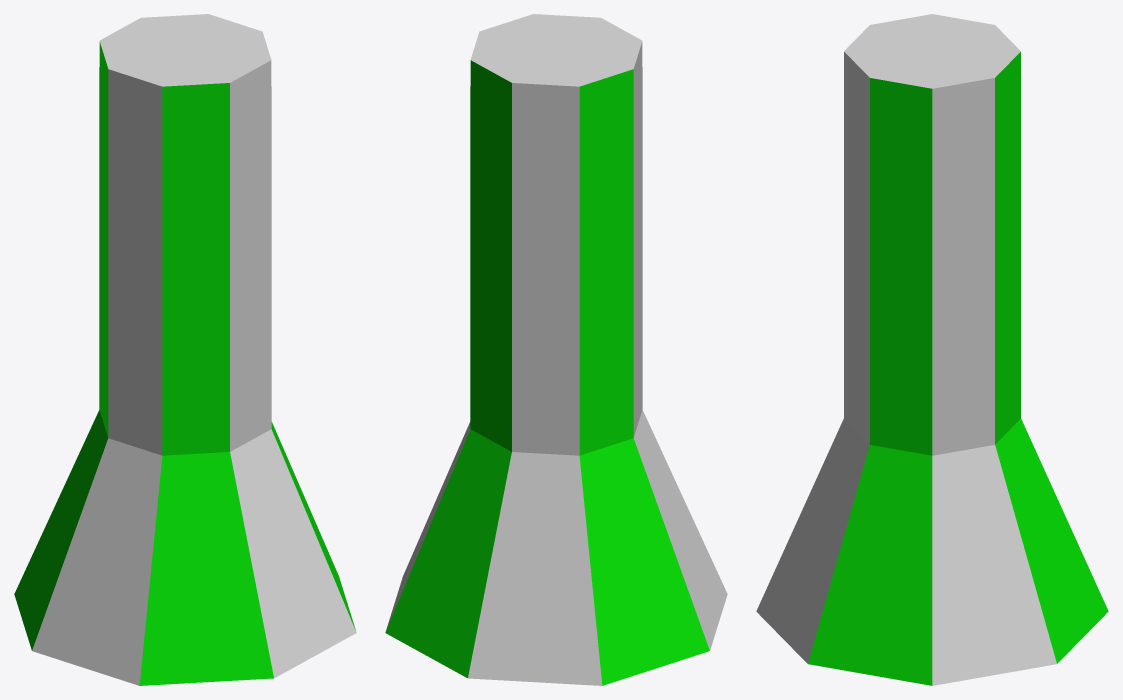
Rendered from tower.fbx.
The picture shows the model from 3 angles, left to right: view 1: azimuth 30°, elevation 25°; view 2: azimuth 150°, elevation 25°; view 3: azimuth 270°, elevation 25°; orthographic projection.
Visible parts, largest first — view 1: Tower; view 2: Tower; view 3: Tower.
Boxes of the visible parts, left/top/right/bottom form: Tower: left=14, top=14, right=356, bottom=685; Tower: left=385, top=14, right=727, bottom=685; Tower: left=756, top=14, right=1108, bottom=685.
Bounding box in the file's own units: 0.9907 × 1.74 × 0.9907.
